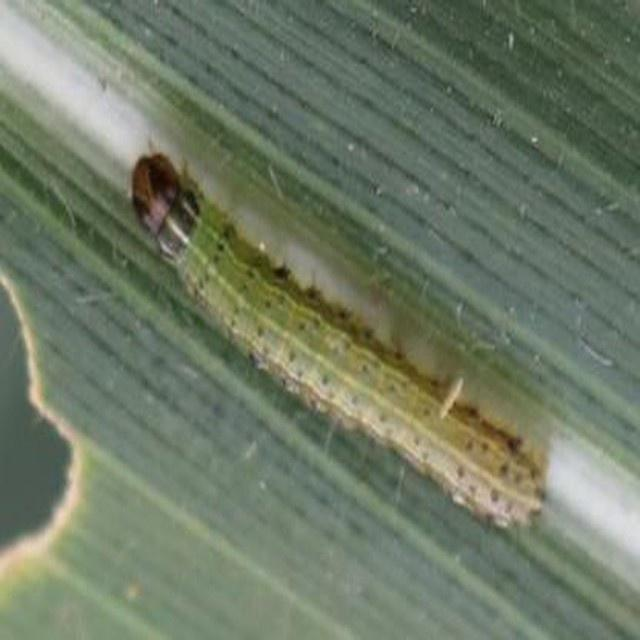gusano_cogollero: (134, 152, 546, 524)
